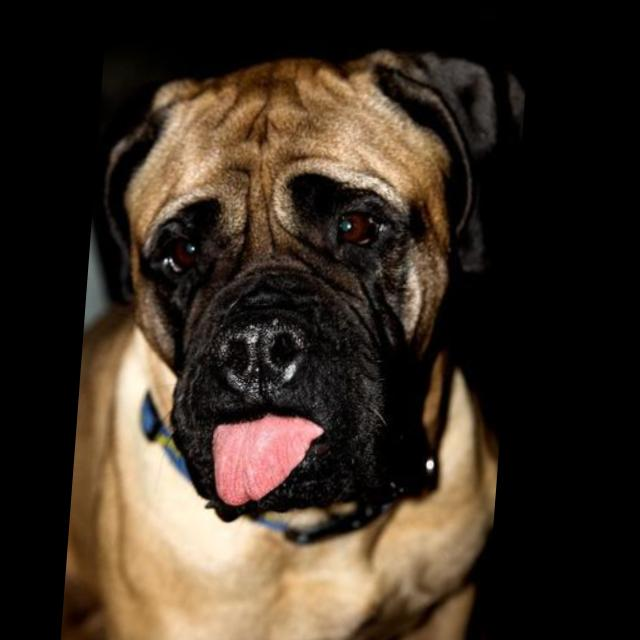bullmastiff: (72, 46, 530, 640)
